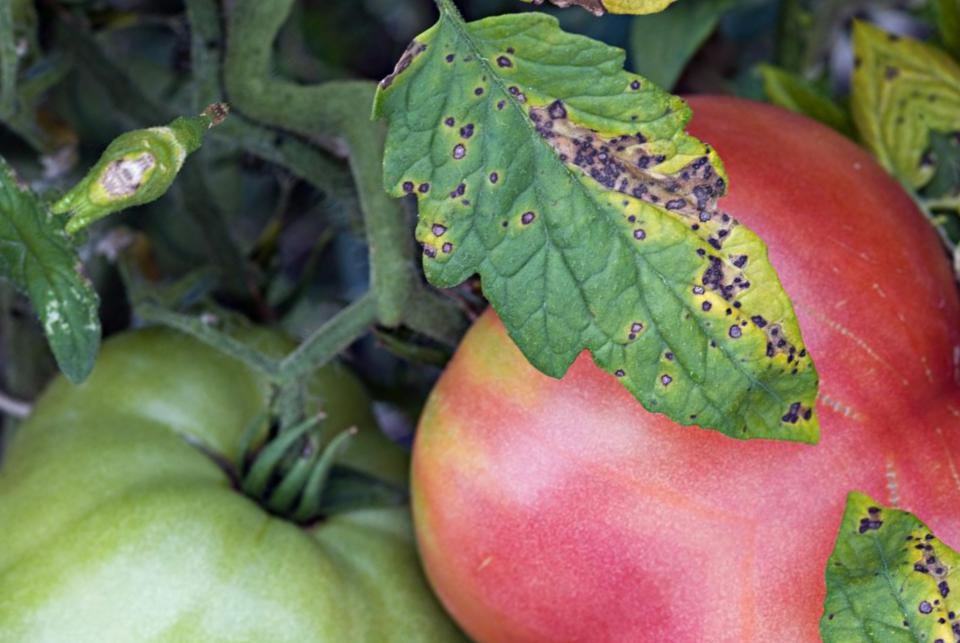Tomato Septoria leaf spot: (327, 0, 889, 549), (454, 0, 760, 91)
